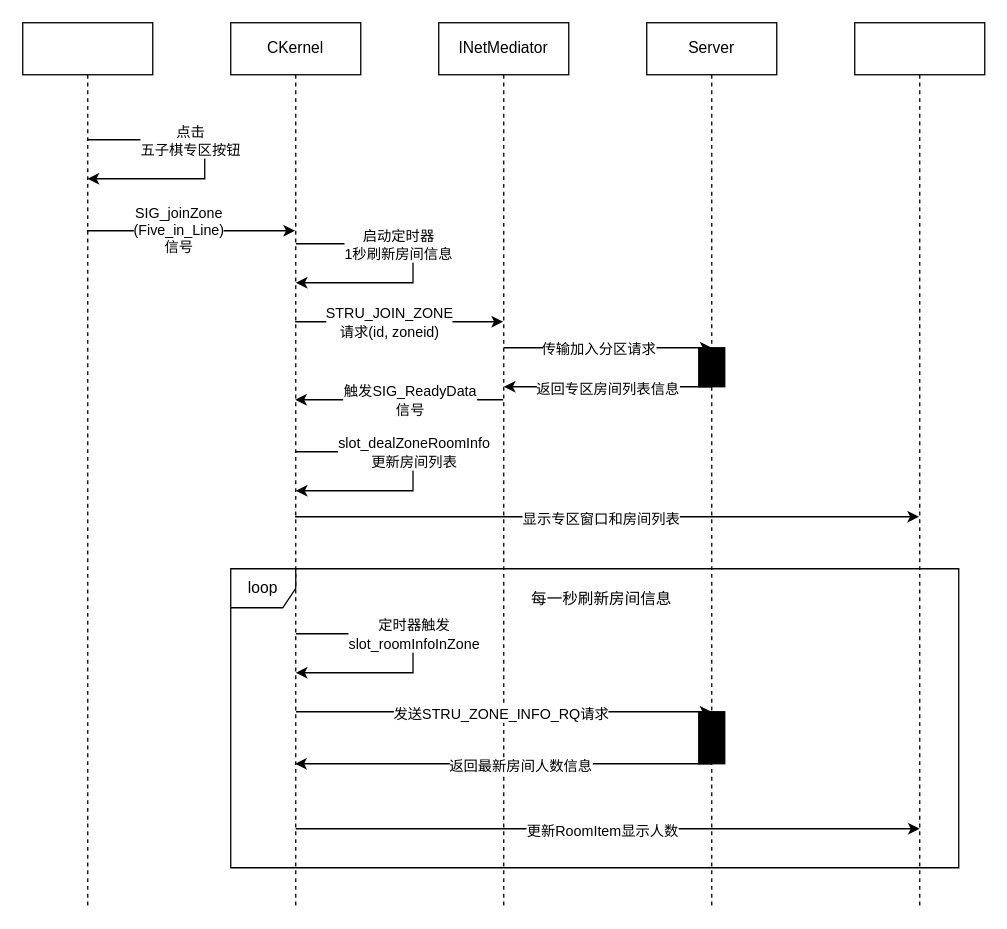
The diagram is 1007 pixels wide and 929 high, and some of its shapes have lost their labels. Each missing label, with the box of its shape:
FiveInLineZone 专区: (853, 21, 985, 907)
MainDialog 游戏大厅: (21, 21, 153, 907)
